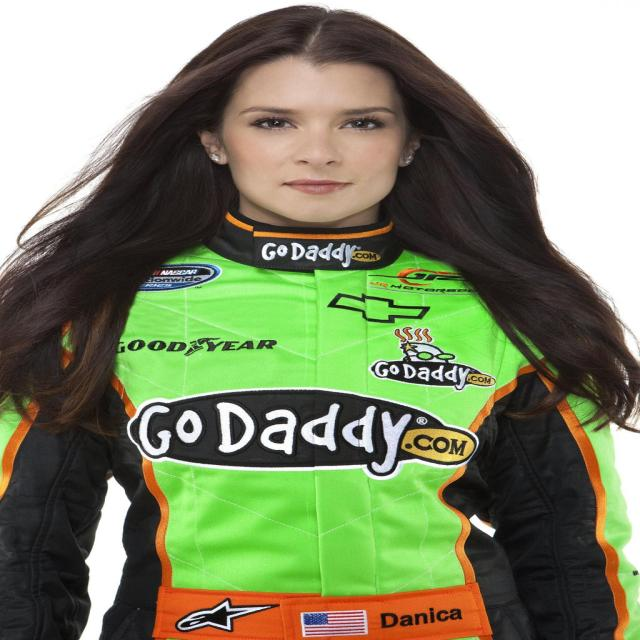Face: (220, 50, 432, 226)
